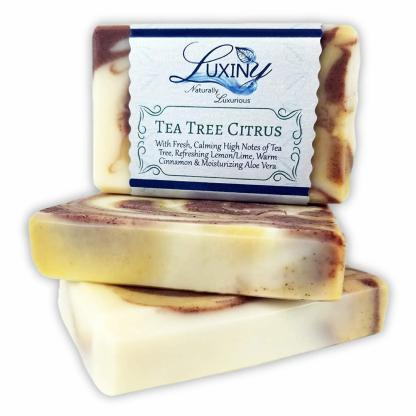soap: (86, 19, 363, 211), (45, 255, 393, 394), (28, 189, 352, 306)
